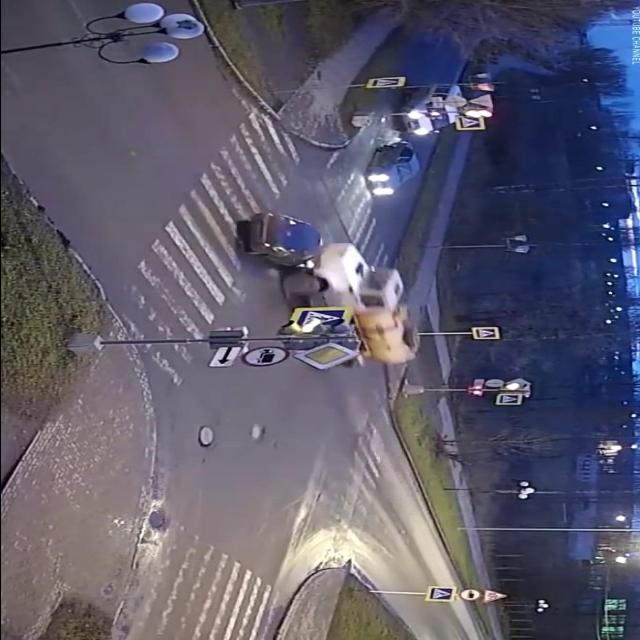accident: (218, 198, 432, 380)
